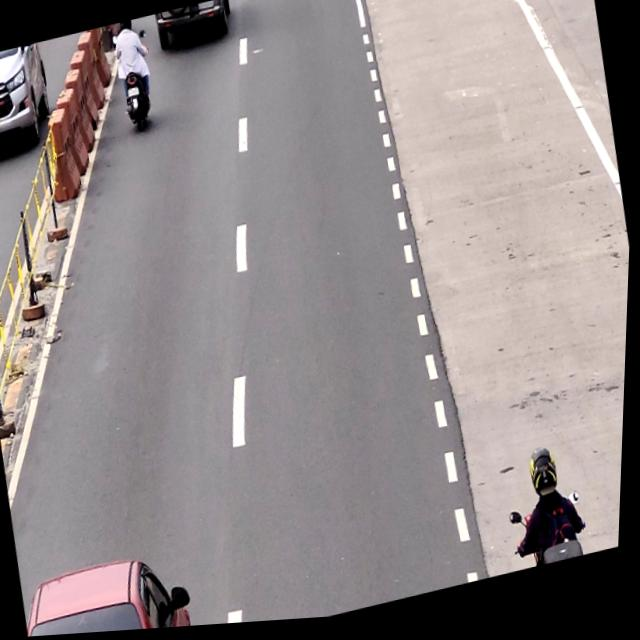Car: (22, 543, 201, 638), (152, 0, 237, 55)
Motorcycle: (510, 449, 593, 577), (110, 19, 159, 145)
